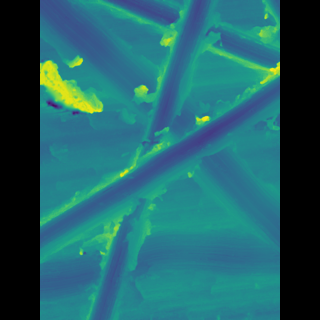Loch: (70, 0, 249, 320)
